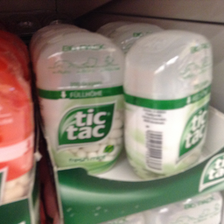candy: (125, 27, 214, 185), (39, 33, 125, 174), (1, 36, 31, 201)
